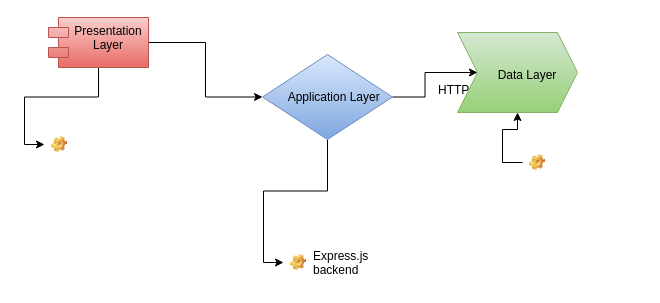
This 660x303 diagram has some shape labels left out. The shapes that lost their labels are listed below. From the top down, each one's centre as x and y in pixels, then its label:
(104,144): React Frontend
(582,162): MongoDB
